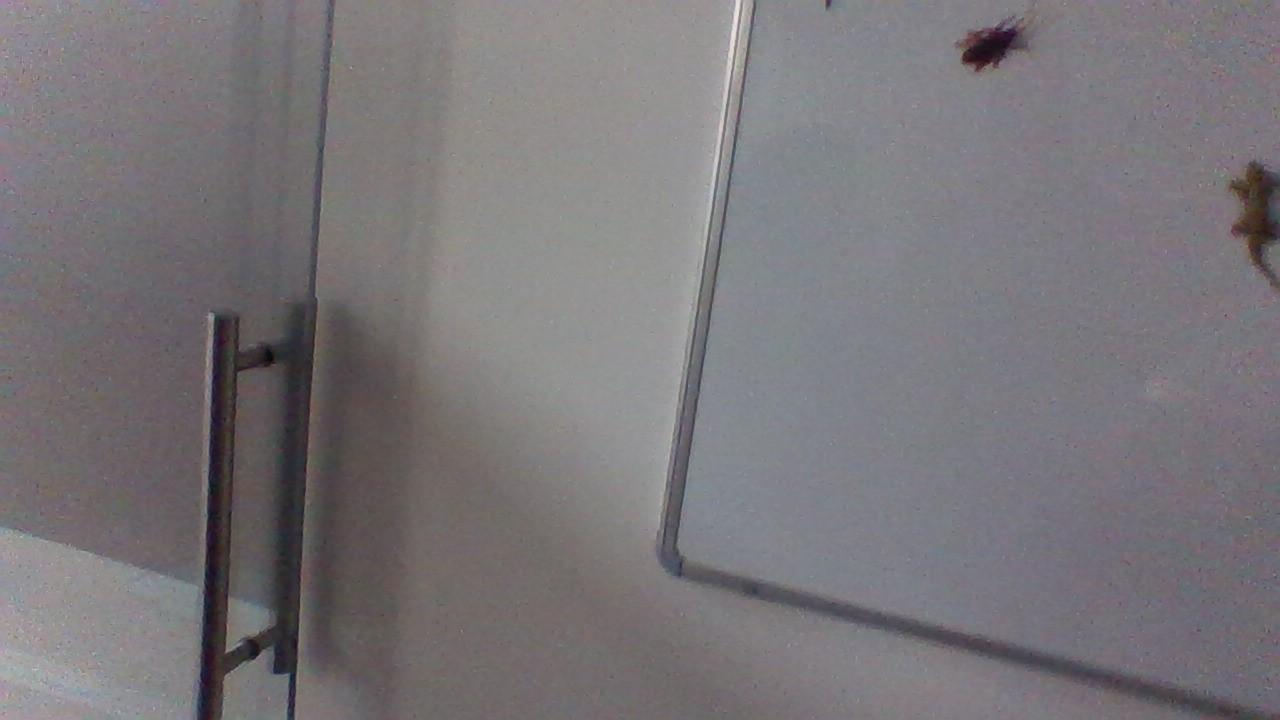cockroach: (946, 7, 1036, 76)
lizard: (1210, 147, 1280, 290)
